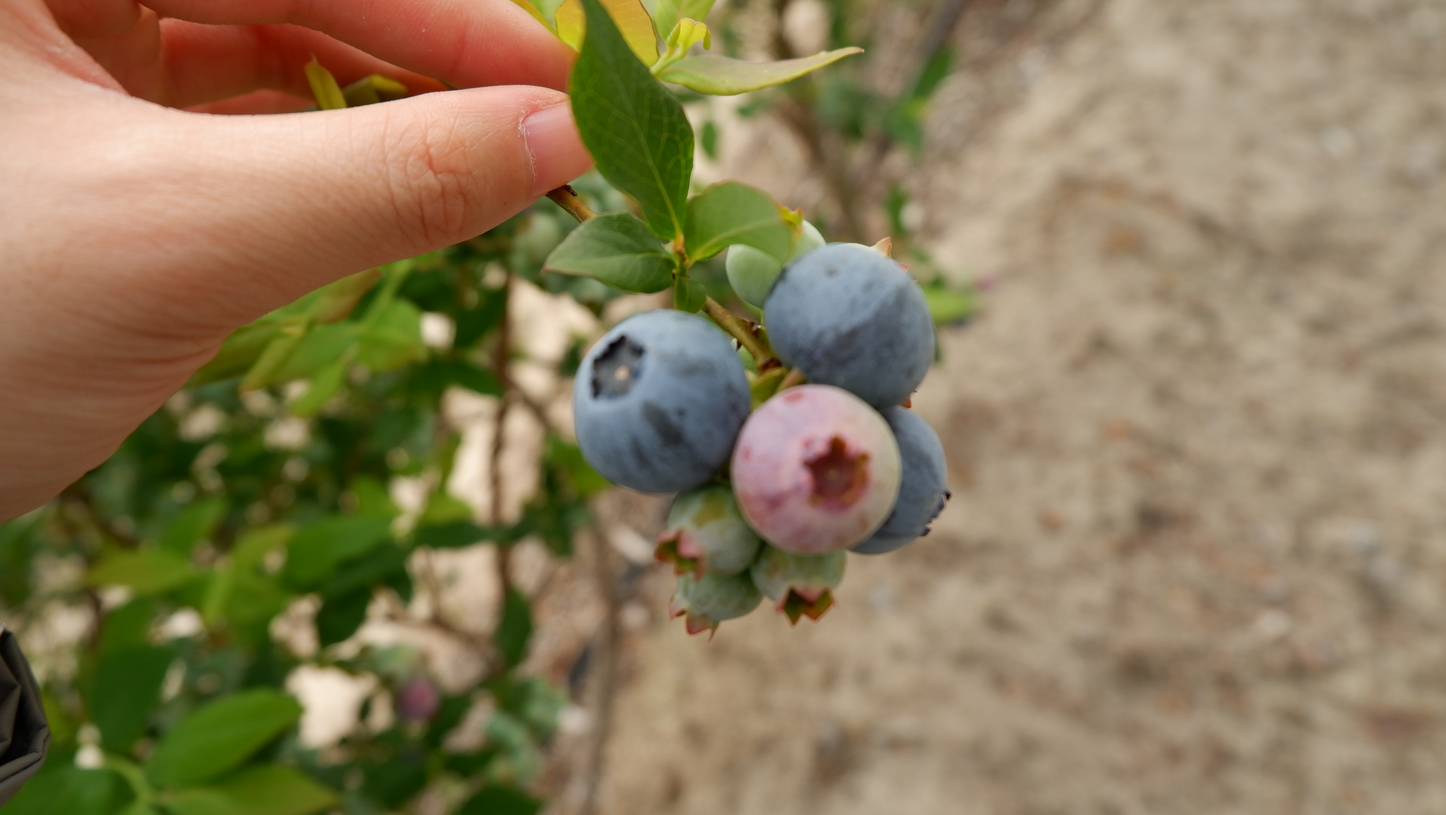Immature: (729, 384, 899, 555), (654, 475, 764, 581), (724, 220, 826, 308), (747, 543, 847, 629), (667, 569, 764, 644)
Mature: (572, 309, 751, 495), (763, 242, 934, 411), (847, 405, 953, 554)
